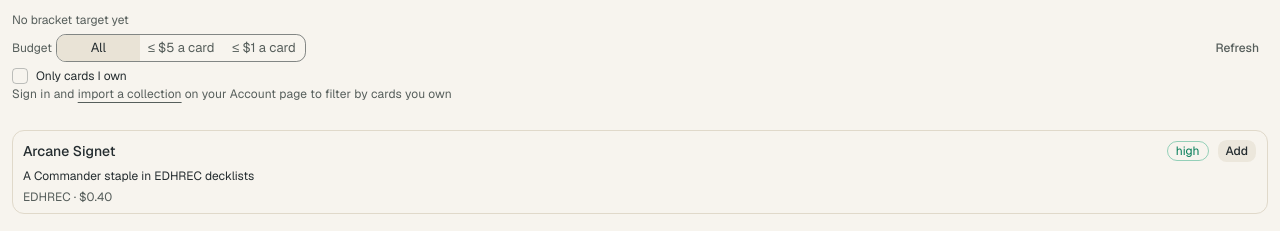
it: RecommendationsPanel — a saved deck (P3.2) › a resolve that answers a different card adds nothing and says so
Click the button with aria-label "Add Arcane Signet to the deck" at (1237, 151), box [1216,139,1257,163]
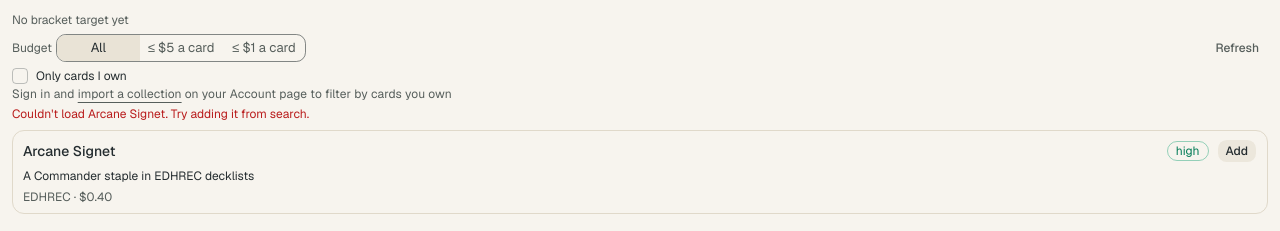
Now the text "Couldn't load Arcane Signet. Try adding it from search." is shown, box [12,106,309,122]
